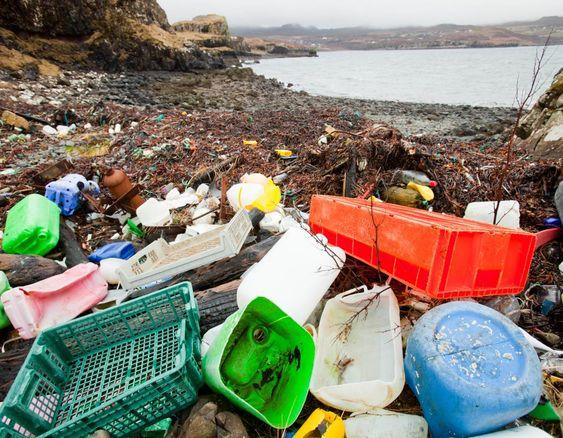HDPE: (391, 284, 551, 436), (199, 280, 335, 438)
